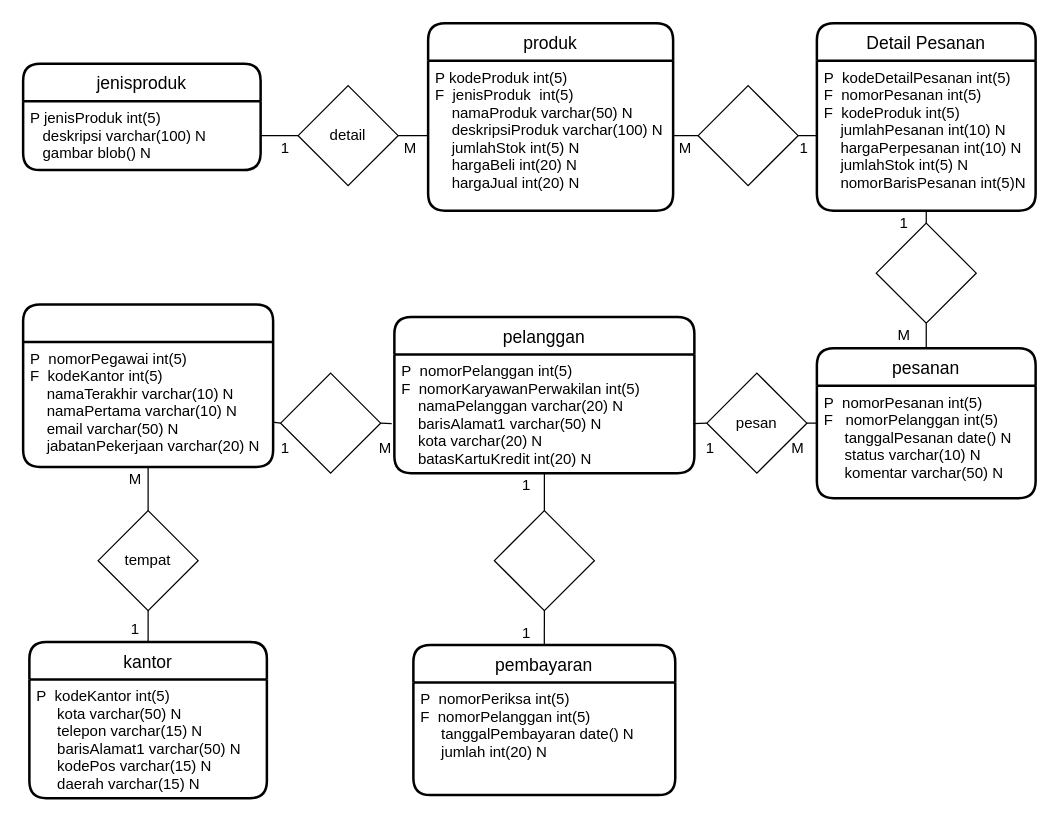
This 1058x820 diagram has some shape labels left out. Each missing label, with the box of its shape:
bayar: (493, 509, 594, 611)
cari: (697, 84, 798, 186)
catat: (875, 222, 976, 323)
karyawan: (21, 302, 274, 468)
layan: (279, 372, 381, 473)
